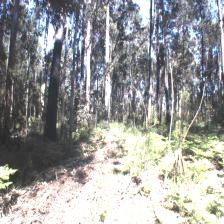trunktrack_idkeyframe: (43, 42, 62, 141), (68, 51, 76, 143)
